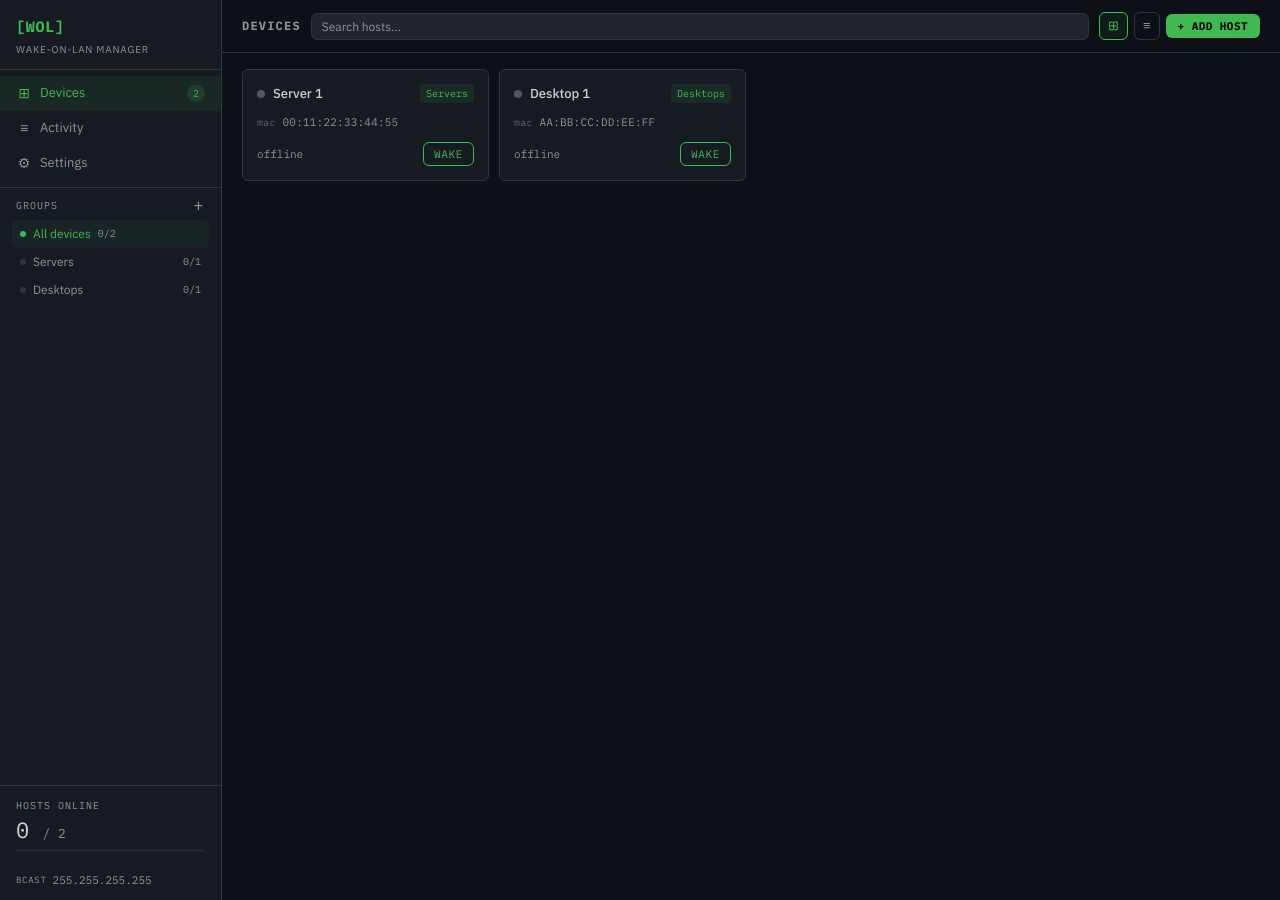
Test: App › groupFilter › filters devices by selected group
The width and height of the screenshot is (1280, 900).
Check: the text "Server 1" is shown, box [273,85,323,102]
Click the text "Servers" below "All devices" at (53, 261), box [33,254,74,268]
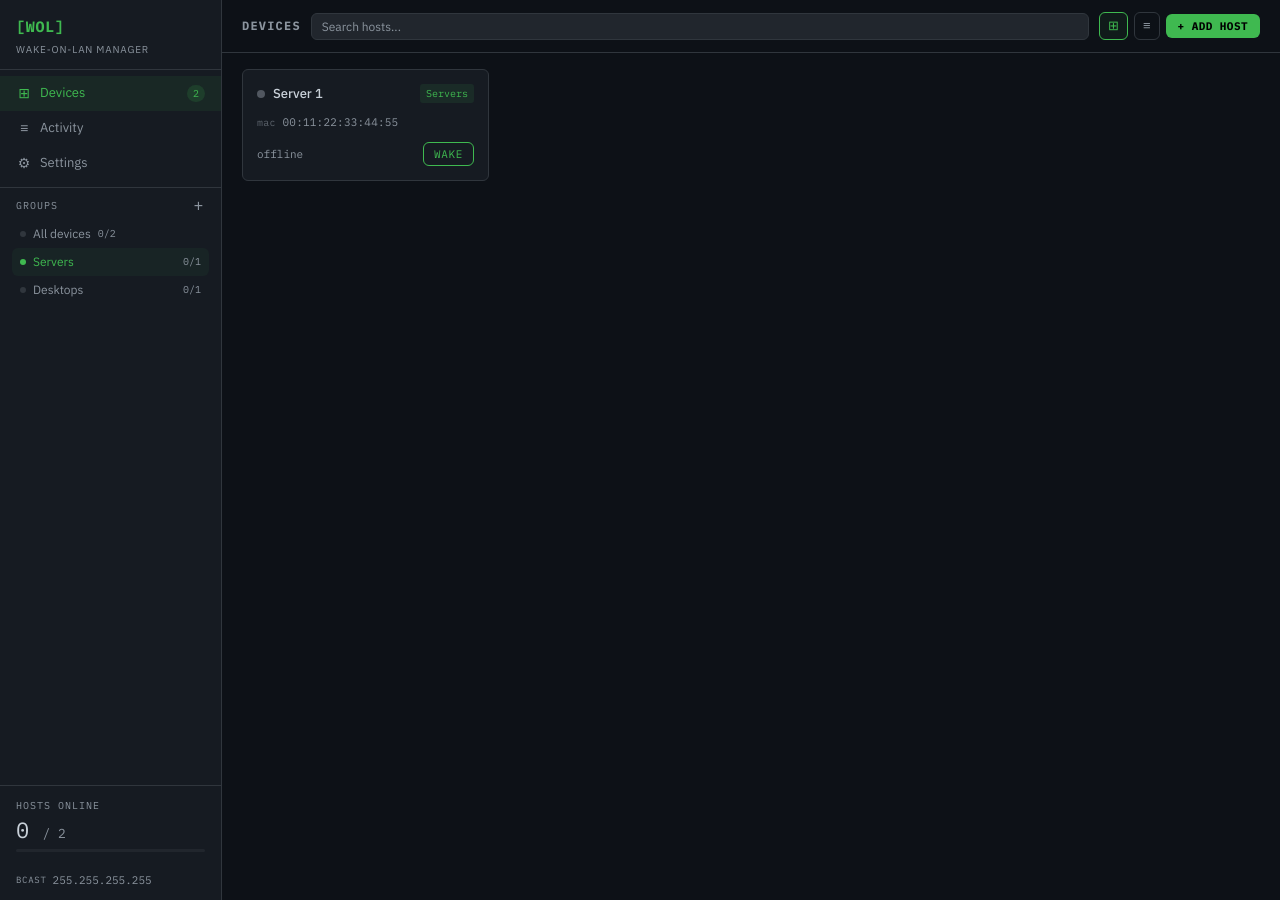
Check: the text "Server 1" is shown, box [273,85,323,102]
Check: the text "Desktop 1" is gone
